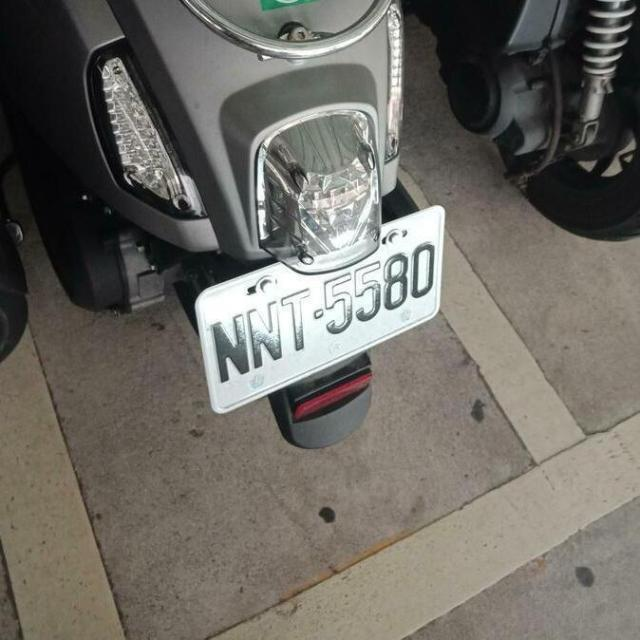W: (176, 209, 462, 422)
